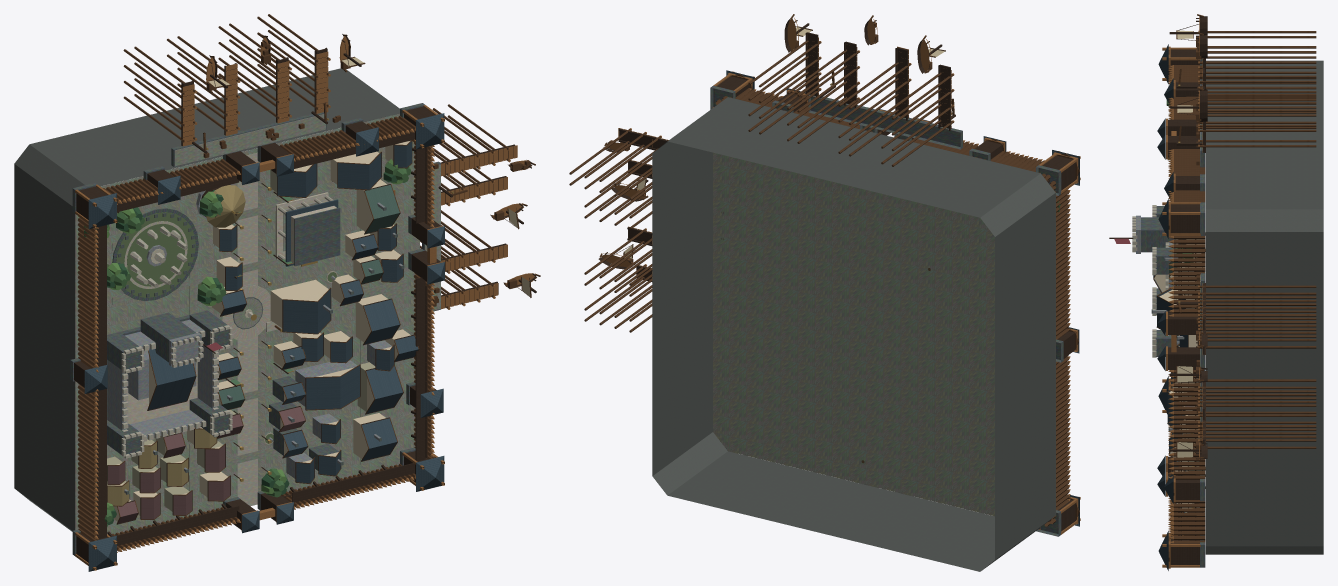
File: Coedwig_v1_Druidic_Oak_Capital.glb
3 views of the same model, side by side, from view 1: azimuth 30°, elevation 25°; view 2: azimuth 150°, elevation 25°; view 3: azimuth 270°, elevation 25° (orthographic). The views are drawn at different scales.
Visible parts, largest first — view 1: Coedwig_bedrock, Coedwig_paving, Coedwig_slate, Coedwig_oak, Coedwig_oak_dark, Coedwig_oak_light, Coedwig_stone_dark, Coedwig_stone_light, Coedwig_plaster, Coedwig_stone, Coedwig_slate_rust, Coedwig_moss (+7 smaller); view 2: Coedwig_paving, Coedwig_bedrock, Coedwig_oak, Coedwig_oak_dark, Coedwig_stone_dark, Coedwig_oak_light; view 3: Coedwig_bedrock, Coedwig_oak, Coedwig_oak_dark, Coedwig_oak_light, Coedwig_slate, Coedwig_stone_dark, Coedwig_plaster, Coedwig_stone_light, Coedwig_sail, Coedwig_stone.
Boxes of the visible parts, x1,y1,x2,y2 form: Coedwig_bedrock: (14,68,399,531); Coedwig_paving: (75,113,440,534); Coedwig_slate: (84,113,444,571); Coedwig_oak: (77,14,540,551); Coedwig_oak_dark: (74,34,536,562); Coedwig_oak_light: (75,36,536,570); Coedwig_stone_dark: (70,103,440,555); Coedwig_stone_light: (121,152,337,506); Coedwig_plaster: (113,141,410,521); Coedwig_stone: (107,184,402,493); Coedwig_slate_rust: (108,407,305,523); Coedwig_moss: (107,161,388,443); Coedwig_paving: (713,152,1055,516); Coedwig_bedrock: (652,97,1055,571); Coedwig_oak: (569,14,1079,526); Coedwig_oak_dark: (598,19,1075,532); Coedwig_stone_dark: (710,85,1063,536); Coedwig_oak_light: (601,18,1080,534); Coedwig_bedrock: (1205,60,1323,554); Coedwig_oak: (1153,14,1316,561); Coedwig_oak_dark: (1109,16,1207,564); Coedwig_oak_light: (1162,16,1202,568); Coedwig_slate: (1153,44,1187,570); Coedwig_stone_dark: (1141,58,1205,567); Coedwig_plaster: (1154,239,1204,512); Coedwig_stone_light: (1132,205,1168,357); Coedwig_sail: (1177,30,1192,457); Coedwig_stone: (1136,215,1194,477).
Size of the model in its own units: 217 by 212 by 89.
Materials: 26 (26 with a texture image).
